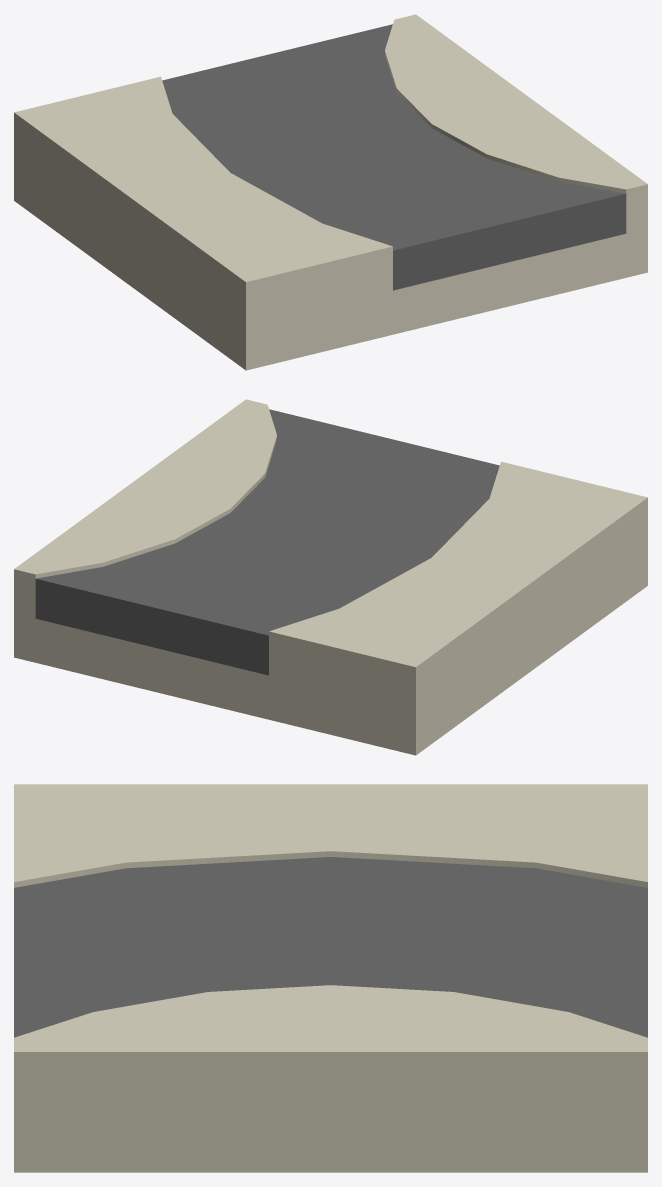
File: roadTile_067.fbx
3 renders of one model, top to bottom at view 1: azimuth 30°, elevation 25°; view 2: azimuth 150°, elevation 25°; view 3: azimuth 270°, elevation 25°, orthographic. The views are drawn at different scales.
Parts seen in each view (by area): view 1: roadTile_067; view 2: roadTile_067; view 3: roadTile_067.
Boxes of the visible parts, left/top/right/bottom form: roadTile_067: left=14, top=14, right=647, bottom=370; roadTile_067: left=14, top=399, right=647, bottom=755; roadTile_067: left=14, top=784, right=647, bottom=1172.
Size of the model in its own units: 118 by 24.8 by 118.
